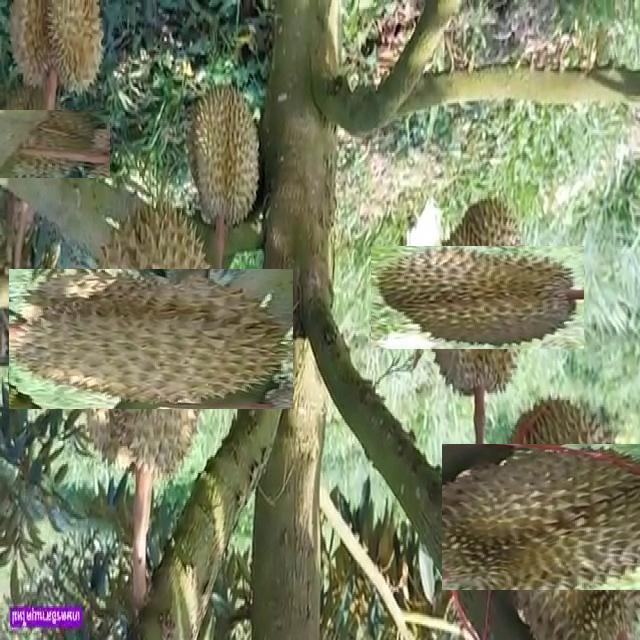durian: (45, 232, 257, 445), (467, 419, 640, 615), (398, 218, 556, 377), (184, 78, 263, 238), (4, 2, 111, 109), (0, 90, 92, 197)
